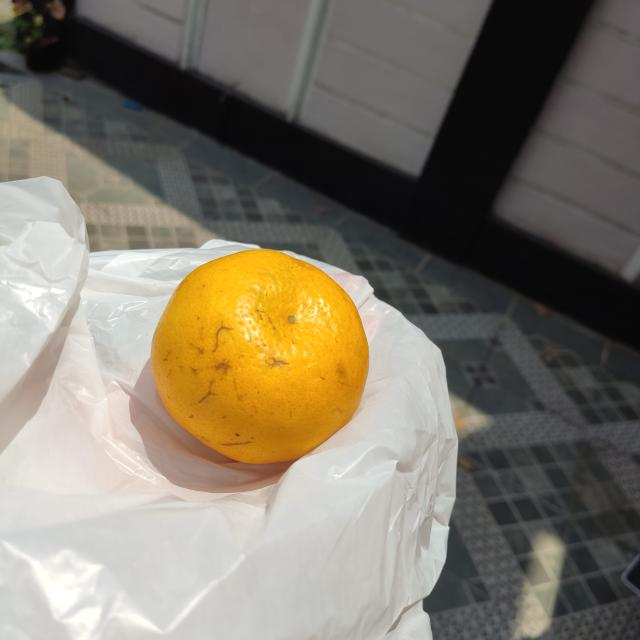orange: (147, 247, 372, 471)
